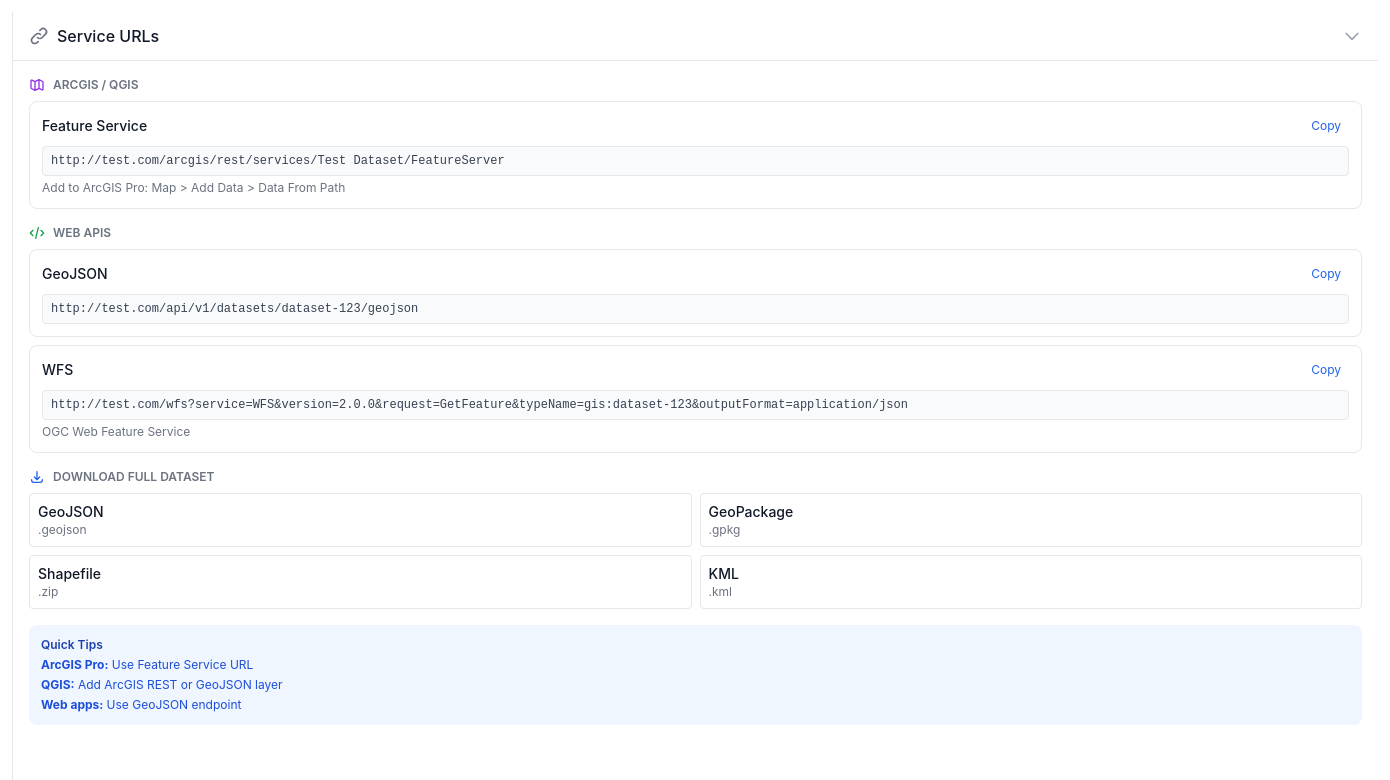
Test case: ServiceUrlsPanel › should collapse content when header clicked
Expected: the heading "Download Full Dataset" is shown, [29,469,214,485]
# Click to collapse
What coordinates should you click on to do the following:
click the button "Service URLs"
I would click on:
 (108, 36)
Its box is [13,12,1378,61].
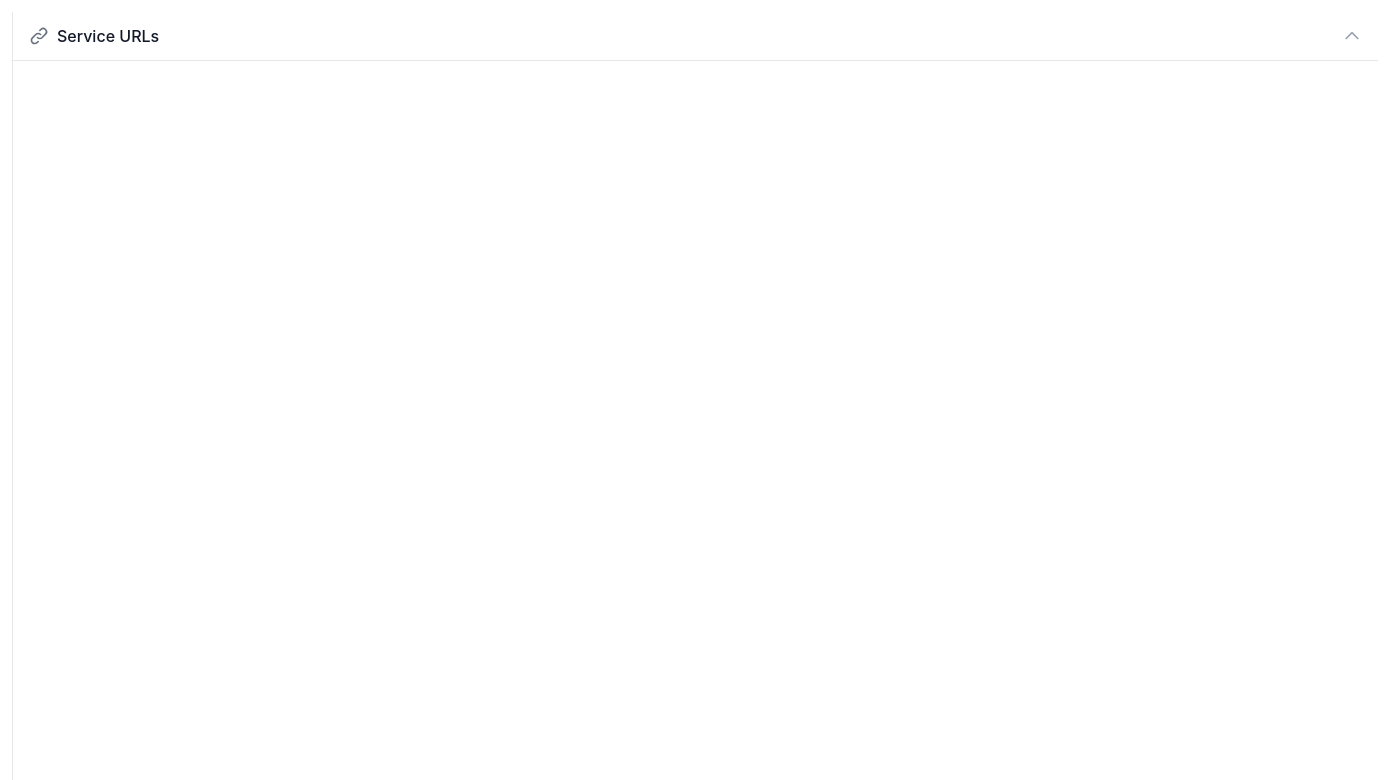
Now the heading "Download Full Dataset" is gone
